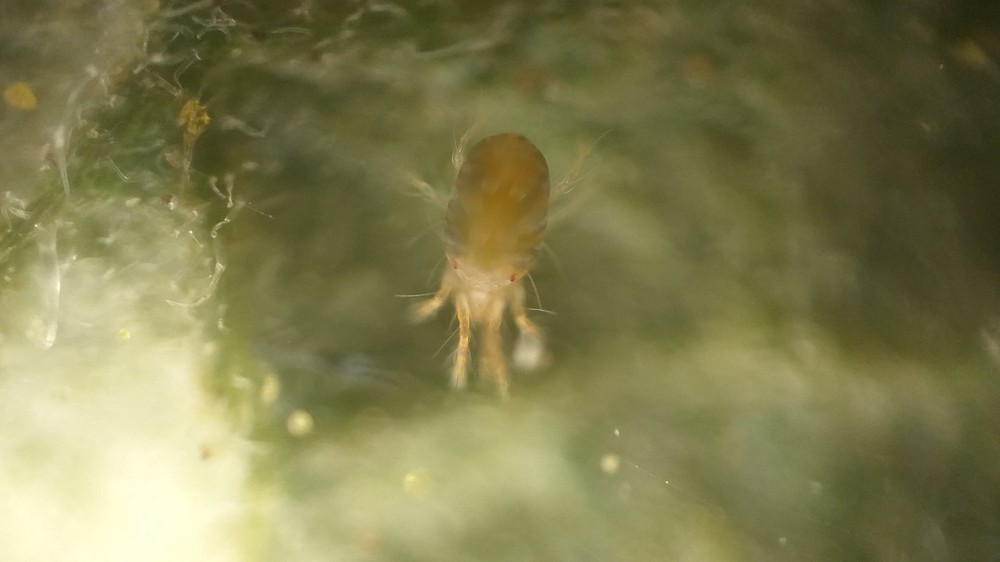Aracnido Rojo: (359, 109, 652, 431)
